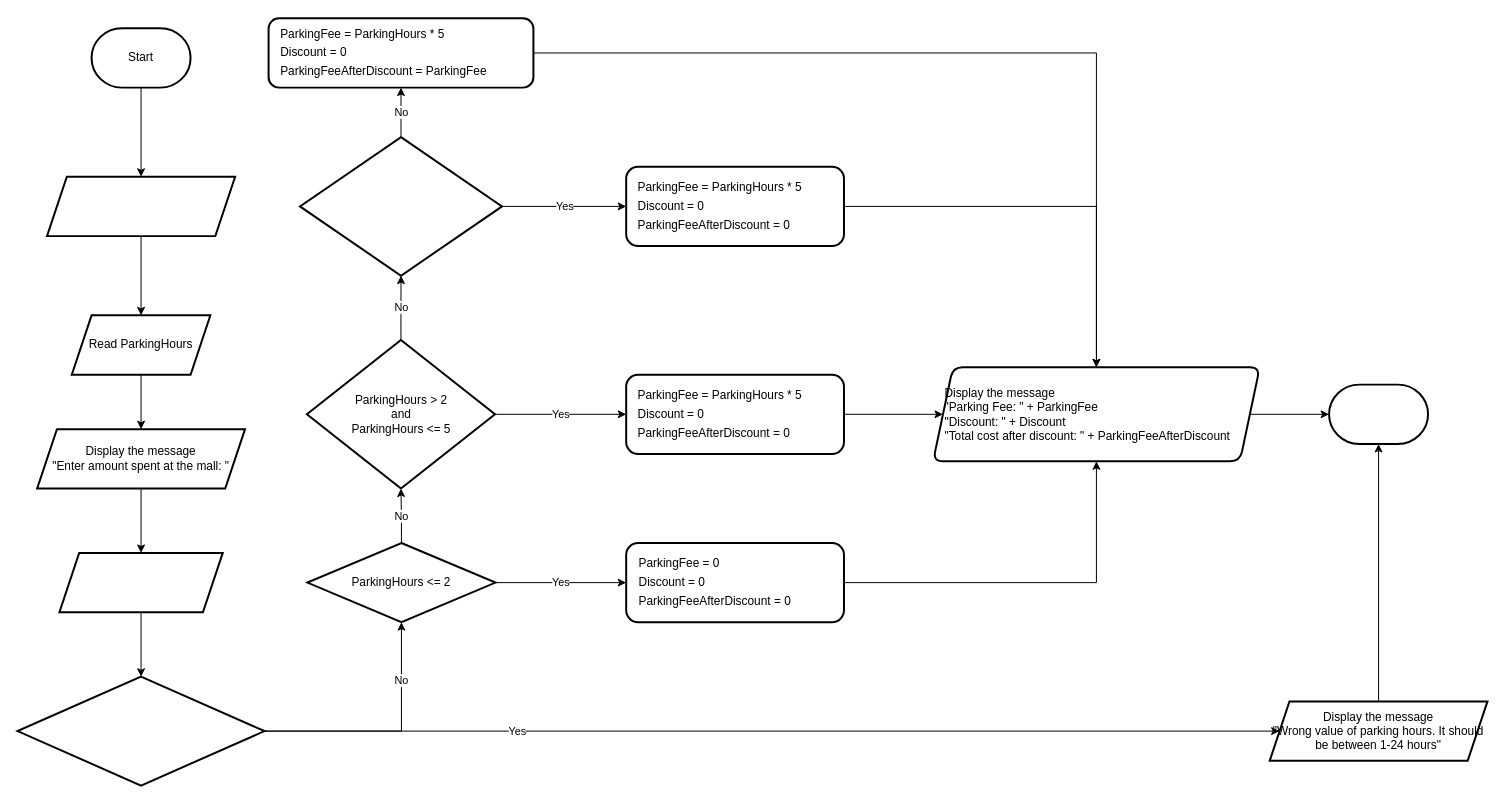
This 1506x803 diagram has some shape labels left out. The shapes that lost their labels are listed below. From the top down, each one's centre as x and y in pixels, then its label:
point (141, 206): Display the message "Enter parking hours: "
point (400, 206): ParkingHours > 5 and PurchaseAmount >= 200
point (1378, 414): End
point (140, 582): Read PurchaseAmount
point (140, 730): ParkingHours < 1 or ParkingHours > 24
